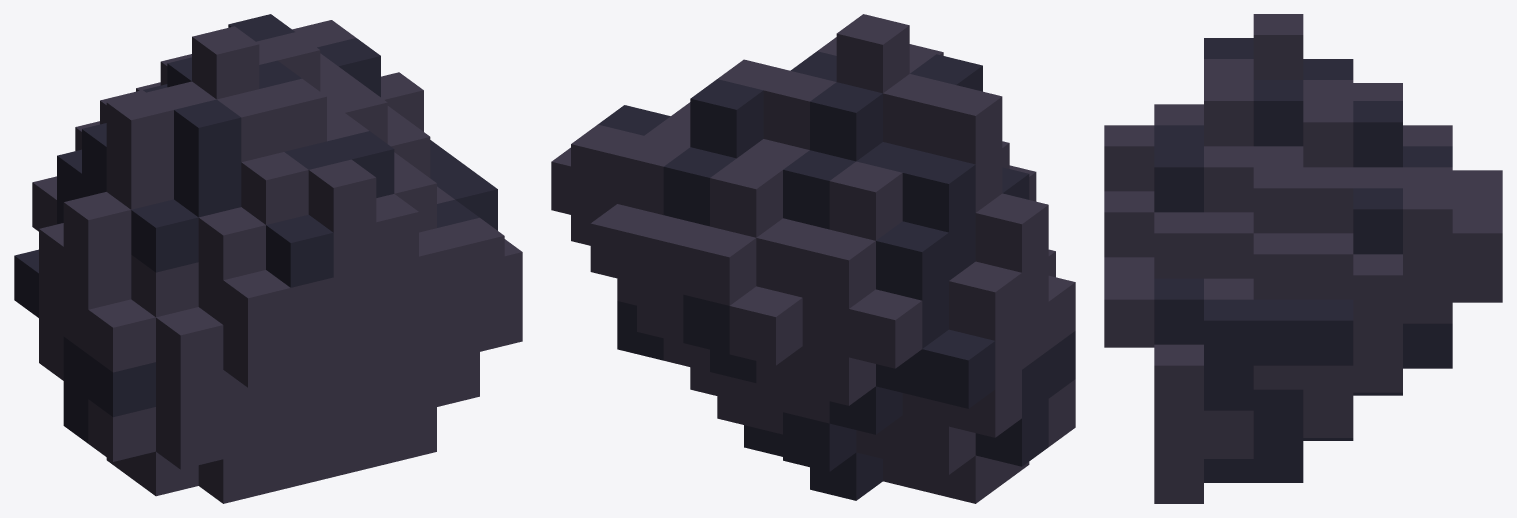
File: cometa-g.obj
3 views of the same model, side by side, from view 1: azimuth 30°, elevation 25°; view 2: azimuth 150°, elevation 25°; view 3: azimuth 270°, elevation 25° (orthographic). The views are drawn at different scales.
Bounding box in the file's own units: 0.9 × 0.9 × 0.8.
Materials: 1 (1 with a texture image).
